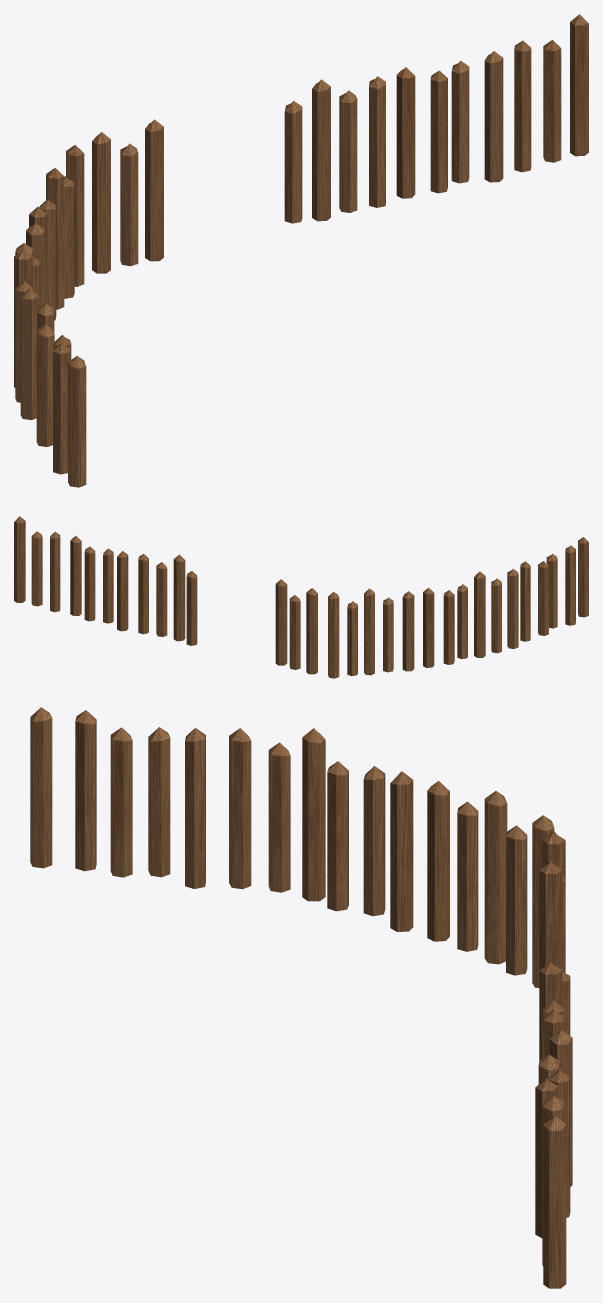
The model's file is Recinzione.fbx.
3 renders of one model, top to bottom at view 1: azimuth 30°, elevation 25°; view 2: azimuth 150°, elevation 25°; view 3: azimuth 270°, elevation 25°, orthographic. The views are drawn at different scales.
Visible parts, largest first — view 1: Recinto; view 2: Recinto; view 3: Recinto.
Boxes of the visible parts, x1,y1,x2,y2 form: Recinto: (14,14,588,487); Recinto: (14,516,588,678); Recinto: (30,707,572,1288).
Bounding box in the file's own units: 597 × 112 × 315.
